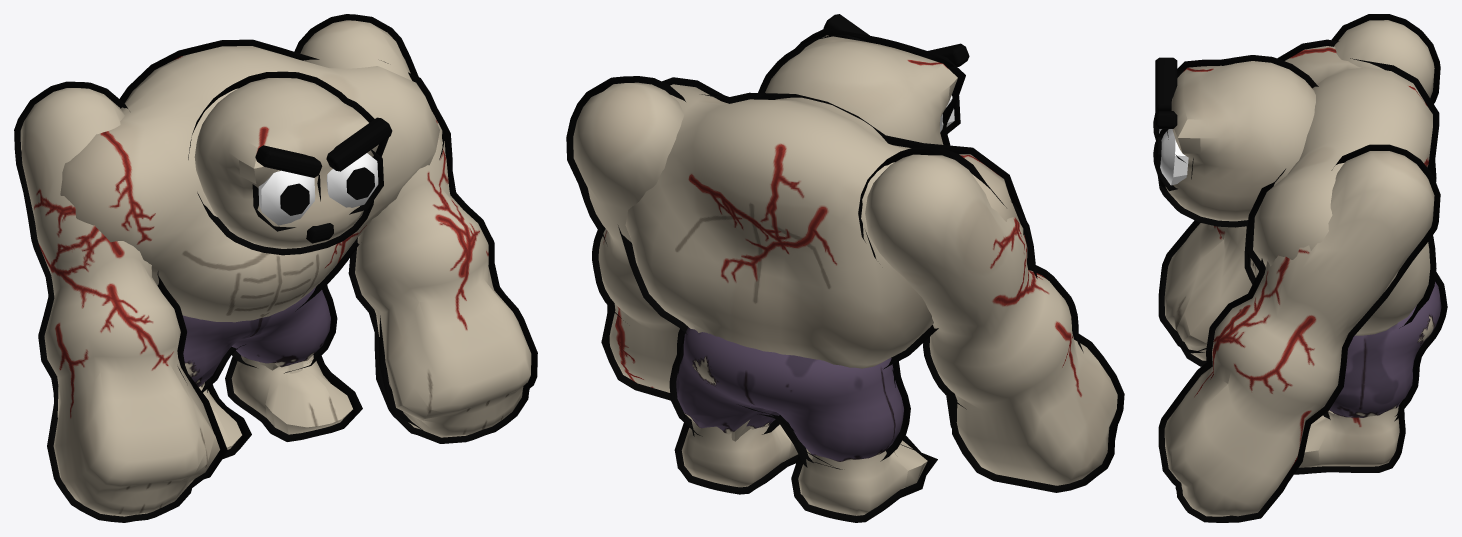
File: tank.fbx
The picture shows the model from 3 angles, left to right: view 1: azimuth 30°, elevation 25°; view 2: azimuth 150°, elevation 25°; view 3: azimuth 270°, elevation 25°; orthographic projection. The views are drawn at different scales.
Visible parts, largest first — view 1: tank_torso, tank_arm_r, tank_arm_l, tank_head, tank_leg_l, tank_leg_r; view 2: tank_torso, tank_arm_r, tank_arm_l, tank_head, tank_leg_r, tank_leg_l; view 3: tank_arm_l, tank_torso, tank_head, tank_arm_r, tank_leg_l.
Part boxes in pixels (box(x1,y1,x2,y2)): tank_torso: box(60, 39, 446, 392); tank_arm_r: box(14, 81, 227, 522); tank_arm_l: box(294, 14, 537, 443); tank_head: box(188, 71, 392, 255); tank_leg_l: box(225, 289, 362, 441); tank_leg_r: box(199, 382, 251, 458); tank_torso: box(618, 77, 1027, 469); tank_arm_r: box(858, 148, 1124, 492); tank_arm_l: box(566, 76, 685, 400); tank_head: box(758, 14, 969, 145); tank_leg_r: box(791, 369, 937, 522); tank_leg_l: box(674, 335, 798, 494); tank_arm_l: box(1158, 144, 1440, 522); tank_torso: box(1244, 39, 1447, 421); tank_head: box(1153, 55, 1318, 227); tank_arm_r: box(1158, 14, 1440, 366); tank_leg_l: box(1294, 396, 1406, 474).
Size of the model in its own units: 761 by 615 by 442.
1 material, 1 textured.
